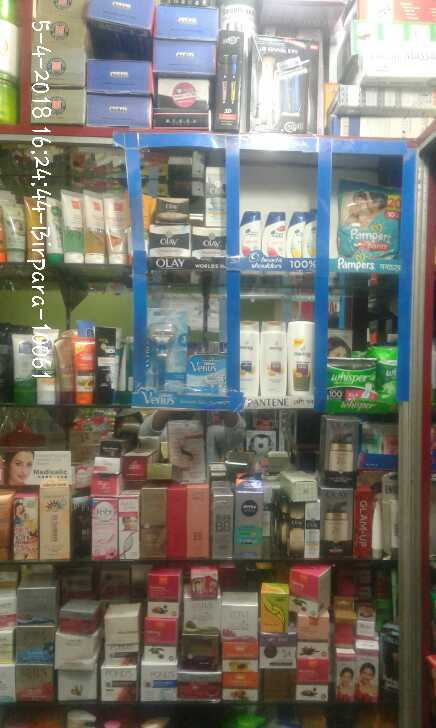venus: (147, 308, 185, 393), (185, 353, 226, 393)
